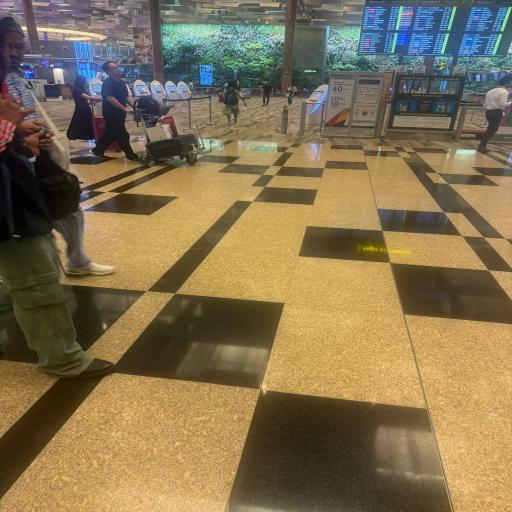person_right: (0, 16, 115, 380), (0, 29, 117, 277)
person_with_luggage_right: (90, 61, 202, 166), (66, 74, 122, 153)
